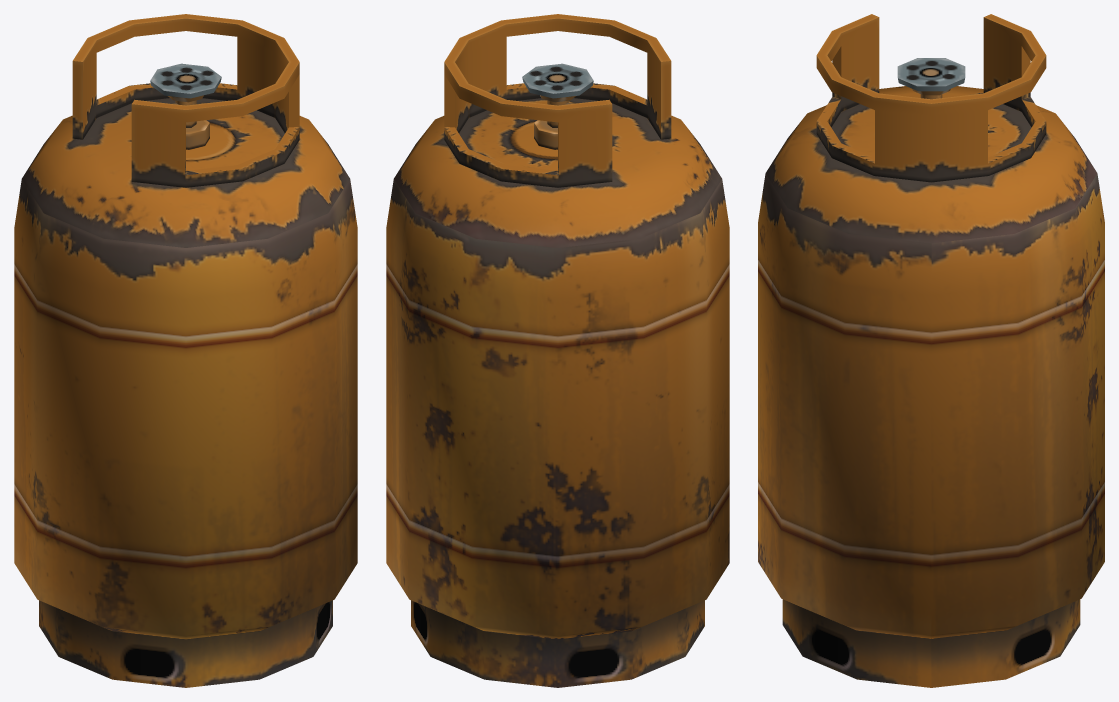
The model's file is gasCylinder03.fbx.
The picture shows the model from 3 angles, left to right: view 1: azimuth 30°, elevation 25°; view 2: azimuth 150°, elevation 25°; view 3: azimuth 270°, elevation 25°; orthographic projection.
Parts seen in each view (by area): view 1: gasCylinder03; view 2: gasCylinder03; view 3: gasCylinder03.
Boxes of the visible parts, left/top/right/bottom form: gasCylinder03: left=14, top=14, right=357, bottom=687; gasCylinder03: left=386, top=14, right=729, bottom=687; gasCylinder03: left=758, top=14, right=1104, bottom=687.
Bounding box in the file's own units: 32 × 58 × 32.
